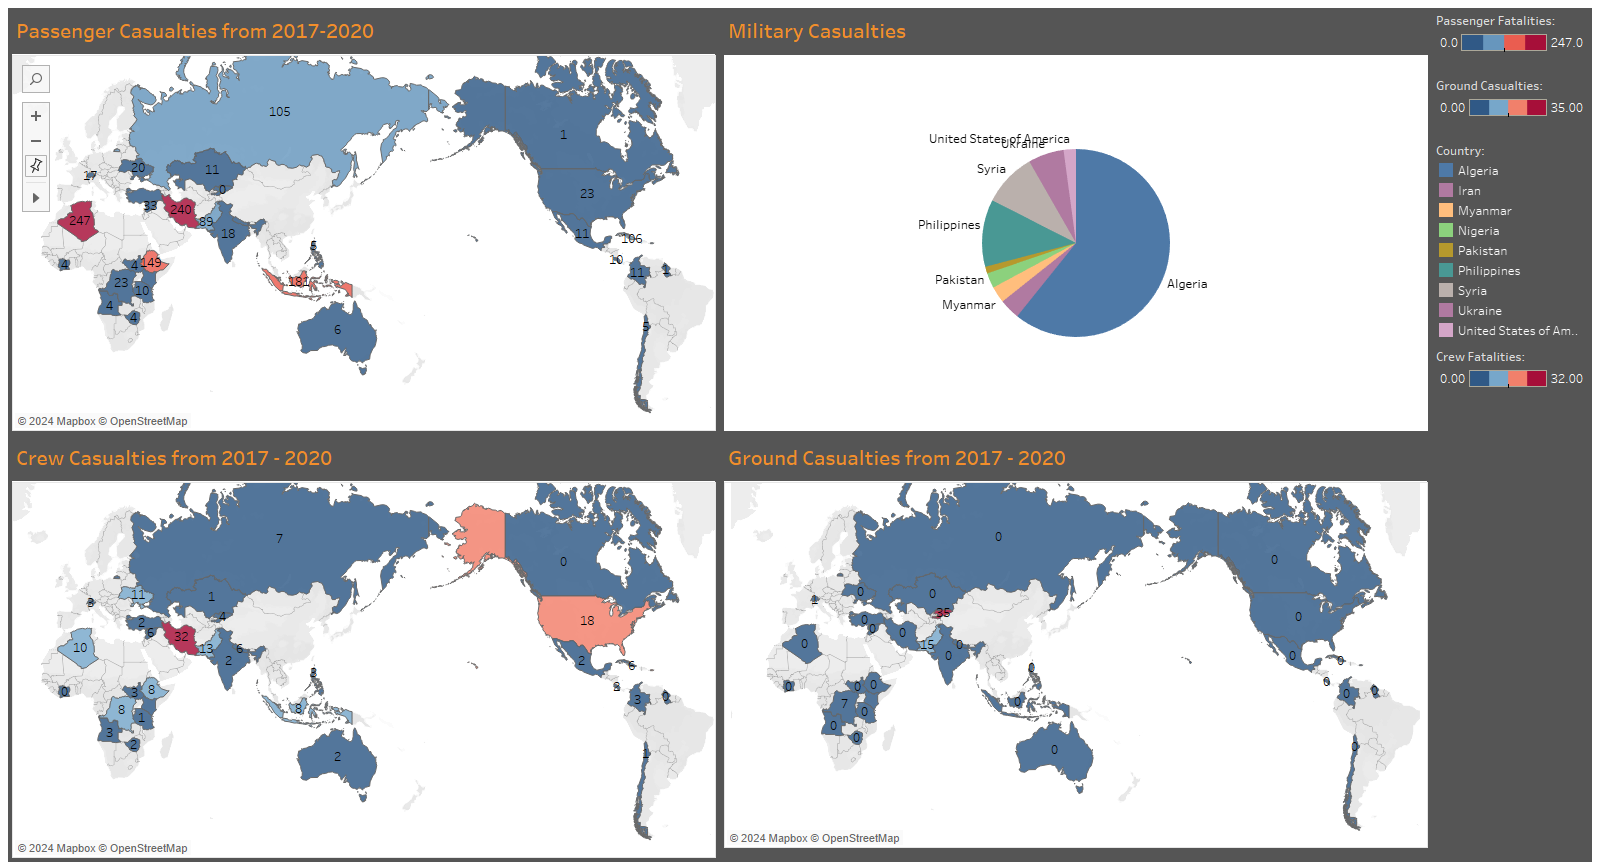

What the dashboard file says about the page in this screenshot:
{"tool":"tableau","page":{"name":"Dashboard 1","canvas":[1000,1000],"units":"permille","ordinal":0},"visuals":[{"type":"worksheet","title":"Passenger Casualties from 2017-2020","mark":"Automatic","box":[5,9.2,444.9,490.8]},{"type":"worksheet","title":"Military Casualties","mark":"Pie","box":[449.9,9.2,445.1,490.8]},{"type":"legend","title":"Passenger Casualties from 2017-2020","param":"[federated.18n7opj0642oc31chzces1jfogys].[sum:Passenger Fatalities::qk]","box":[895,9.2,100,74.7]},{"type":"legend","title":"Ground Casualties from 2017 - 2020","param":"[federated.18n7opj0642oc31chzces1jfogys].[sum:Ground Casualties::qk]","box":[895,83.9,100,74.7]},{"type":"legend","title":"Military Casualties","param":"[federated.18n7opj0642oc31chzces1jfogys].[none:Country::nk]","box":[895,158.6,100,236.8]},{"type":"legend","title":"Crew Casualties from 2017 - 2020","param":"[federated.18n7opj0642oc31chzces1jfogys].[sum:Crew Fatalities::qk]","box":[895,395.4,100,74.7]},{"type":"worksheet","title":"Crew Casualties from 2017 - 2020","mark":"Multipolygon","box":[5,499.9,444.9,490.9]},{"type":"worksheet","title":"Ground Casualties from 2017 - 2020","mark":"Multipolygon","box":[449.9,499.9,445.1,490.9]}]}

Visuals, with their boxes on the dashboard's canvas, which has no fixed pixel size, in thousandths of its width and height (x1, y1, x2, y2). These are canvas units, not pixel positions in the 1600x863 screenshot, which may show the page scaled, cropped or inside an application window:
"Passenger Casualties from 2017-2020" worksheet: rect(5, 9, 450, 500)
"Military Casualties" worksheet (Pie marks): rect(450, 9, 895, 500)
"Passenger Casualties from 2017-2020" legend: rect(895, 9, 995, 84)
"Ground Casualties from 2017 - 2020" legend: rect(895, 84, 995, 159)
"Military Casualties" legend: rect(895, 159, 995, 395)
"Crew Casualties from 2017 - 2020" legend: rect(895, 395, 995, 470)
"Crew Casualties from 2017 - 2020" worksheet (Multipolygon marks): rect(5, 500, 450, 991)
"Ground Casualties from 2017 - 2020" worksheet (Multipolygon marks): rect(450, 500, 895, 991)
